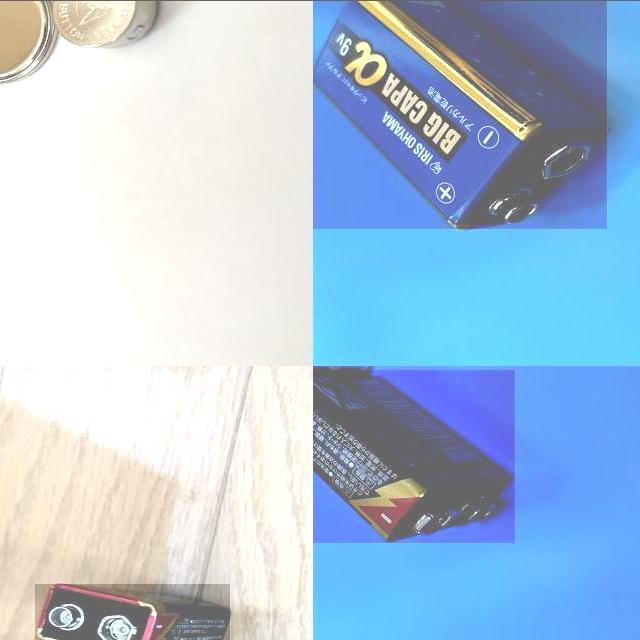9V: (313, 0, 607, 228), (313, 369, 515, 542), (35, 583, 230, 640), (313, 365, 391, 467)
